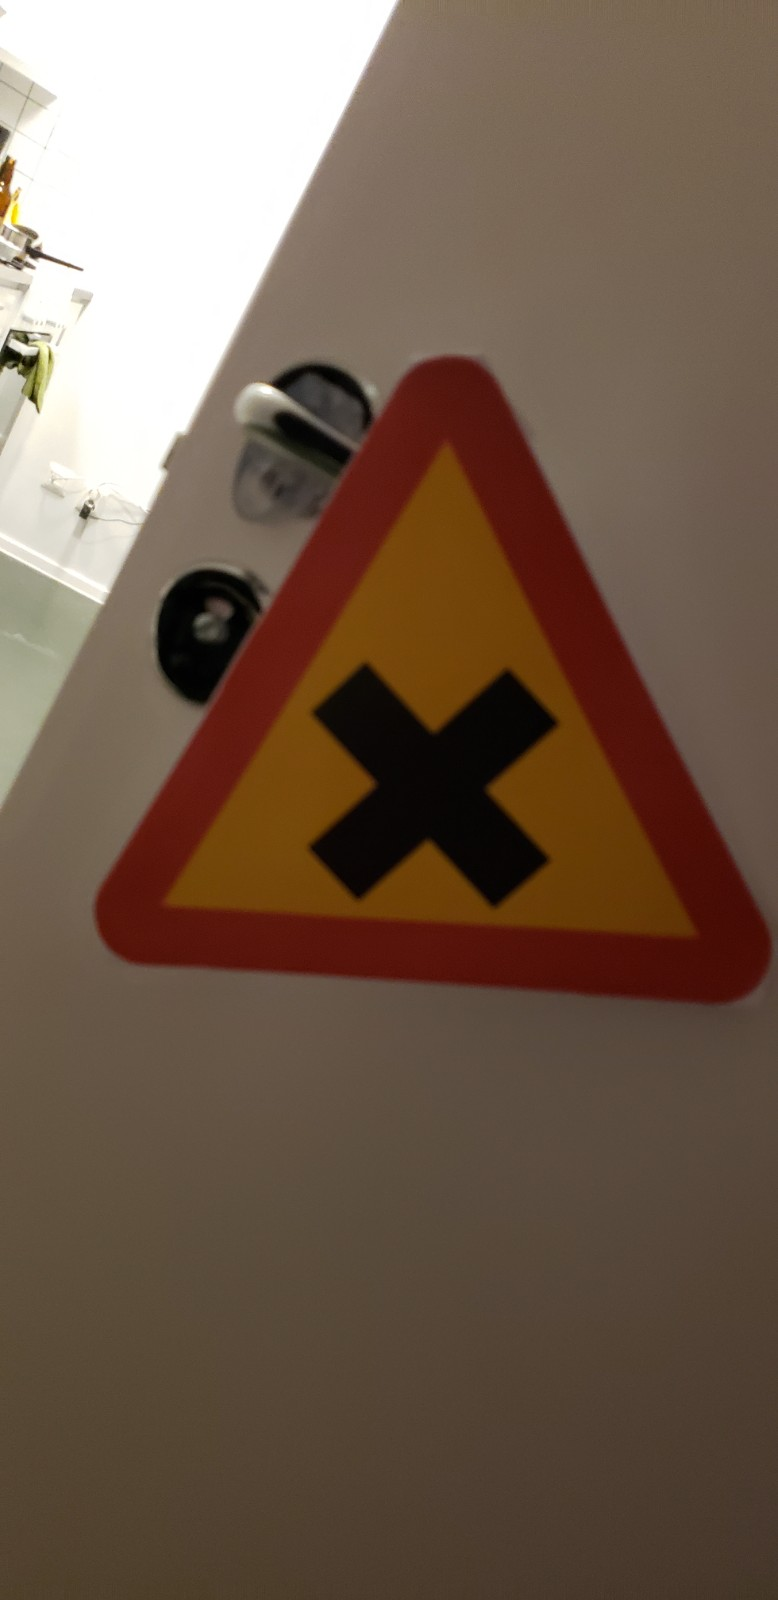junction: (159, 297, 778, 1111)
